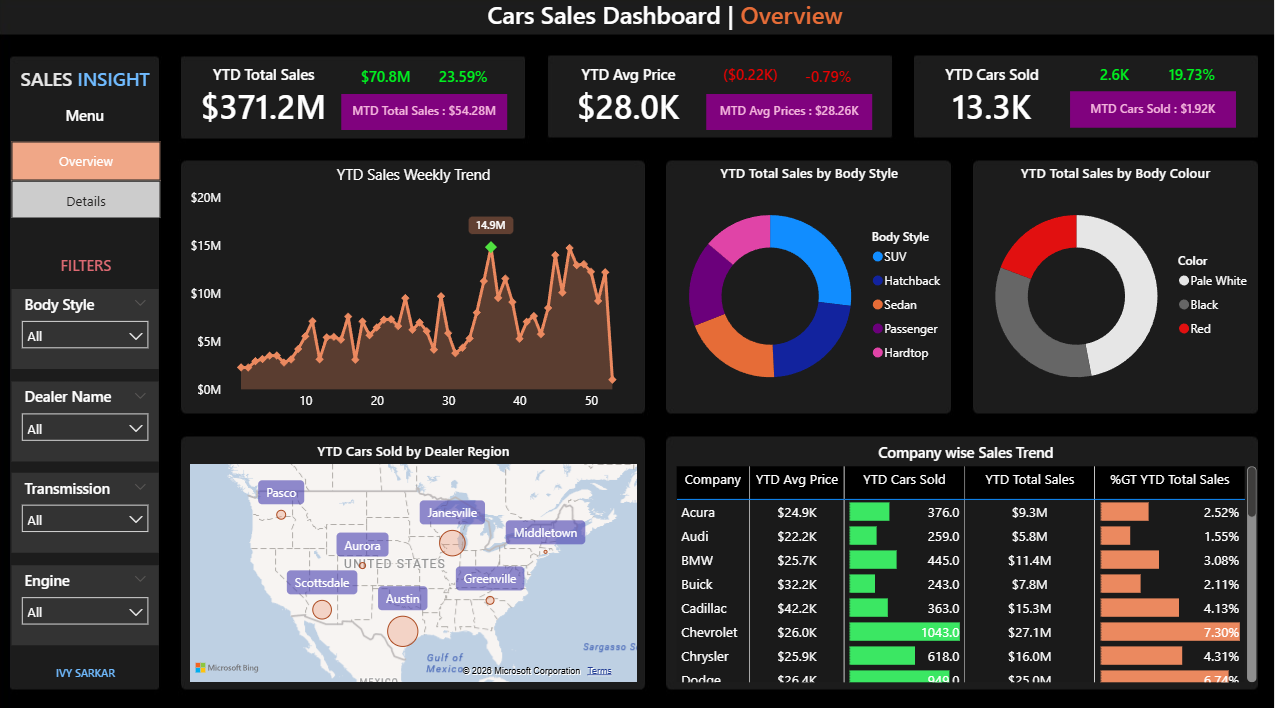

Layout of this report page (visuals, bound fields, positions):
{"tool":"powerbi","page":{"name":"Overview","canvas":[1280,720],"ordinal":0},"visuals":[{"type":"card","title":"YTD Total Sales","fields":{"Values":["car_data.YTD Total Sales"]},"box":[191.8,70,156.8,68.8],"z":0},{"type":"card","title":"YTD ToTal Sales","fields":{"Values":["car_data.Sales Differnce"]},"box":[347.6,70.3,88.4,30.3],"z":1000},{"type":"card","title":"YTD ToTal Sales","fields":{"Values":["car_data.YOY Sales Growth"]},"box":[425.1,70.3,88.4,30.3],"z":2000},{"type":"card","fields":{"Values":["car_data.MTD KPI"]},"box":[347.6,100.5,165.9,36.3],"z":3000},{"type":"card","title":"YTD Avg Price","fields":{"Values":["car_data.YTD Avg Price"]},"box":[555.9,70.3,156.2,69],"z":4000},{"type":"card","title":"YTD ToTal Sales","fields":{"Values":["car_data.Avg Price Diff"]},"box":[712.4,67.9,87.9,30.1],"z":5000},{"type":"card","title":"YTD ToTal Sales","fields":{"Values":["car_data.YOY Avg Price Growth"]},"box":[789.7,70.3,88.4,30.3],"z":6000},{"type":"card","fields":{"Values":["car_data.MTD Avg Price KPI"]},"box":[712.2,100.5,165.9,36.3],"z":7000},{"type":"card","title":"YTD Cars Sold","fields":{"Values":["car_data.YTD Cars Sold"]},"box":[920.6,70.1,155.8,69],"z":8000},{"type":"card","title":"YTD ToTal Sales","fields":{"Values":["car_data.Cars Sold Diff"]},"box":[1076.8,67.8,88.4,30.3],"z":9000},{"type":"card","title":"YTD ToTal Sales","fields":{"Values":["car_data.YOY Cars Sold Growth"]},"box":[1154.3,67.8,88.4,30.3],"z":10000},{"type":"card","fields":{"Values":["car_data.MTD Cars Sold KPI"]},"box":[1076.8,98.1,165.9,36.3],"z":11000},{"type":"areaChart","title":"YTD Sales Weekly Trend","fields":{"Category":["Calendar Table.Week"],"Y":["Sum(car_data.Price ($))","car_data.Max Point on Area Chart"]},"box":[191.4,169.6,456.6,255.6],"z":12000},{"type":"donutChart","title":"YTD Total Sales by Body Style","fields":{"Category":["car_data.Body Style"],"Y":["car_data.YTD Total Sales"]},"box":[669.8,169.6,290.7,247.1],"z":13000},{"type":"donutChart","title":"YTD Total Sales by Body Colour","fields":{"Y":["car_data.YTD Total Sales"],"Category":["car_data.Color"]},"box":[976.2,169.6,290.7,247.1],"z":14000},{"type":"map","title":"YTD Cars Sold by Dealer Region","fields":{"Category":["car_data.Dealer_Region"],"Size":["car_data.YTD Cars Sold"]},"box":[191.4,446.9,456.6,245.9],"z":15000},{"type":"tableEx","title":"Company wise Sales Trend","fields":{"Values":["car_data.Company","car_data.YTD Avg Price","car_data.YTD Cars Sold","car_data.YTD Total Sales1","car_data.YTD Total Sales"]},"box":[675.9,446.9,591.1,245.9],"z":16000},{"type":"textbox","box":[338.4,0,664.6,43.4],"z":17000},{"type":"slicer","fields":{"Values":["car_data.Body Style"]},"box":[17.4,295.1,147.2,79.6],"z":18000},{"type":"slicer","fields":{"Values":["car_data.Dealer_Name"]},"box":[17.4,387.2,147.2,79.6],"z":19000},{"type":"slicer","fields":{"Values":["car_data.Transmission"]},"box":[17.4,479.3,147.2,79.6],"z":20000},{"type":"slicer","fields":{"Values":["car_data.Engine"]},"box":[17.4,571.4,147.2,79.6],"z":21000},{"type":"textbox","box":[4.6,256.7,173.7,30.2],"z":22000},{"type":"textbox","box":[16.9,67.6,147.2,37.4],"z":23000},{"type":"textbox","box":[3.6,106.2,173.7,30.2],"z":24000},{"type":"pageNavigator","box":[16.9,147.2,149.6,76],"z":25000},{"type":"textbox","box":[17.4,664,147.7,37.2],"z":26000}]}

Visuals, with their boxes in screenshot pixels (x1, y1, x2, y2), scaled from the page's 1280x720 canvas onto the 1275x708 screenshot:
"YTD Total Sales" card: <box>191,69,347,136</box>
"YTD ToTal Sales" card: <box>346,69,434,99</box>
"YTD ToTal Sales" card: <box>423,69,511,99</box>
card - car_data.MTD KPI: <box>346,99,511,135</box>
"YTD Avg Price" card: <box>554,69,709,137</box>
"YTD ToTal Sales" card: <box>710,67,797,96</box>
"YTD ToTal Sales" card: <box>787,69,875,99</box>
card - car_data.MTD Avg Price KPI: <box>709,99,875,135</box>
"YTD Cars Sold" card: <box>917,69,1072,137</box>
"YTD ToTal Sales" card: <box>1073,67,1161,96</box>
"YTD ToTal Sales" card: <box>1150,67,1238,96</box>
card - car_data.MTD Cars Sold KPI: <box>1073,96,1238,132</box>
"YTD Sales Weekly Trend" areaChart: <box>191,167,645,418</box>
"YTD Total Sales by Body Style" donutChart: <box>667,167,957,410</box>
"YTD Total Sales by Body Colour" donutChart: <box>972,167,1262,410</box>
"YTD Cars Sold by Dealer Region" map: <box>191,439,645,681</box>
"Company wise Sales Trend" tableEx: <box>673,439,1262,681</box>
textbox: <box>337,0,999,43</box>
slicer - car_data.Body Style: <box>17,290,164,368</box>
slicer - car_data.Dealer_Name: <box>17,381,164,459</box>
slicer - car_data.Transmission: <box>17,471,164,550</box>
slicer - car_data.Engine: <box>17,562,164,640</box>
textbox: <box>5,252,178,282</box>
textbox: <box>17,66,163,103</box>
textbox: <box>4,104,177,134</box>
pageNavigator: <box>17,145,166,219</box>
textbox: <box>17,653,164,690</box>
